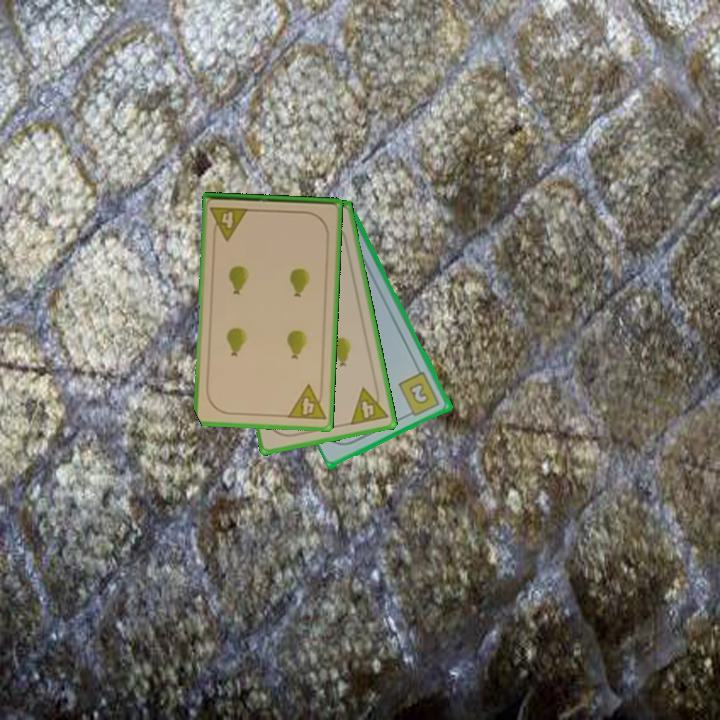2b: (395, 369, 443, 420)
4p: (347, 382, 391, 428), (284, 381, 328, 423), (207, 203, 251, 243)
